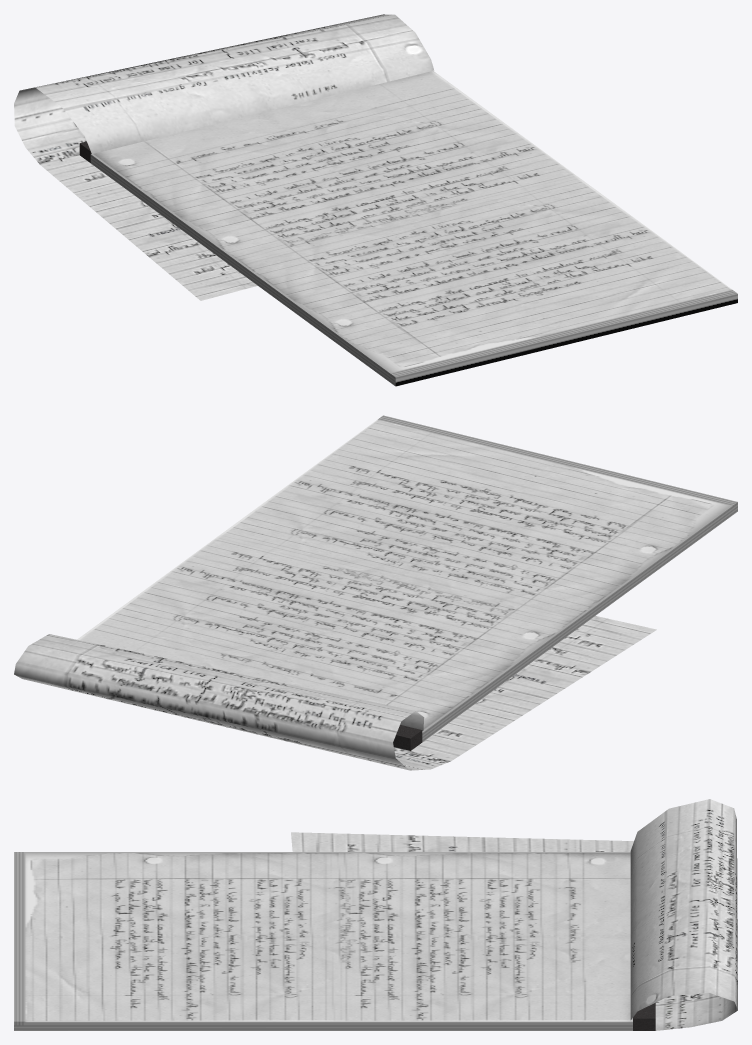
The model's file is DeskLitter_Document_B.fbx.
3 renders of one model, top to bottom at view 1: azimuth 30°, elevation 25°; view 2: azimuth 150°, elevation 25°; view 3: azimuth 270°, elevation 25°, orthographic. The views are drawn at different scales.
Parts seen in each view (by area): view 1: DeskLitter_Document_B; view 2: DeskLitter_Document_B; view 3: DeskLitter_Document_B.
Boxes of the visible parts, x1,y1,x2,y2 form: DeskLitter_Document_B: (14, 14, 737, 386); DeskLitter_Document_B: (14, 415, 737, 770); DeskLitter_Document_B: (14, 799, 737, 1030).
Size of the model in its own units: 16.95 by 2.13 by 26.1.
